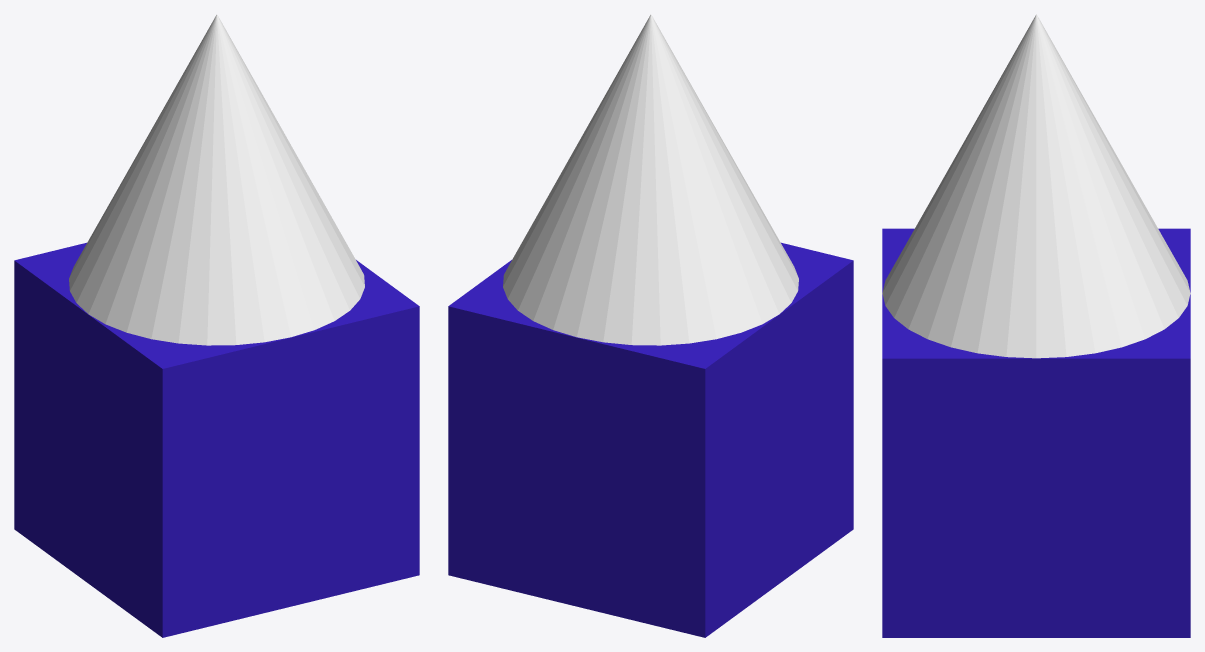
File: blender.gltf
The picture shows the model from 3 angles, left to right: view 1: azimuth 30°, elevation 25°; view 2: azimuth 150°, elevation 25°; view 3: azimuth 270°, elevation 25°; orthographic projection. The views are drawn at different scales.
Parts seen in each view (by area): view 1: Cubo, Cono; view 2: Cubo, Cono; view 3: Cubo, Cono.
Part boxes in pixels (x1,y1,x2,y2): Cubo: (14, 242, 419, 637); Cono: (69, 14, 364, 345); Cubo: (448, 242, 853, 637); Cono: (503, 14, 798, 345); Cubo: (882, 228, 1190, 637); Cono: (882, 14, 1190, 358).
Bounding box in the file's own units: 2 × 4 × 2.
